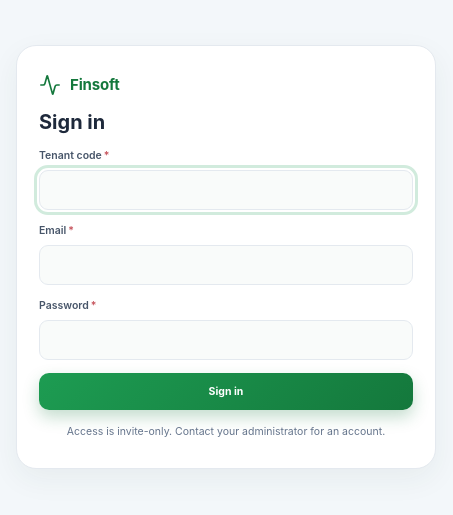
Test: LoginScreen › shows a generic invalid-credentials message on 401 — never which field
Type "ACME" into the field labelled "Tenant code *" at coordinates (226, 190), box [39,170,413,210]
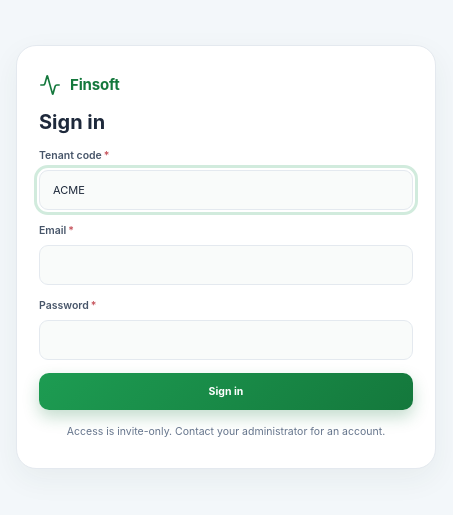
Type "a@b.com" into the field labelled "Email *" at coordinates (226, 265), box [39,245,413,285]
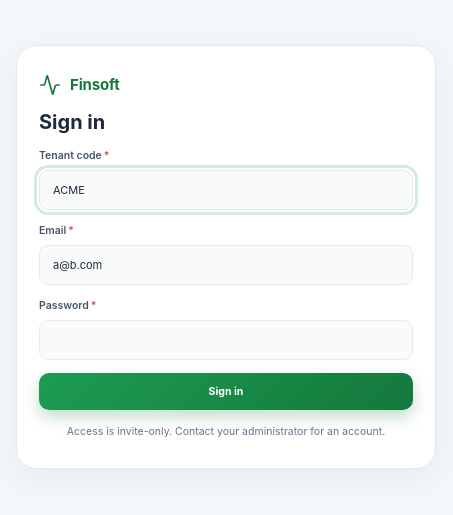
Type "wrong" into the password field labelled "Password *" at coordinates (226, 340), box [39,320,413,360]
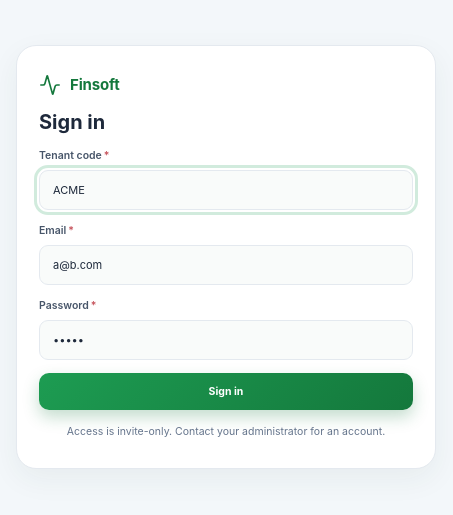
Click the button "Sign in" at coordinates (226, 392), box [39,374,413,410]
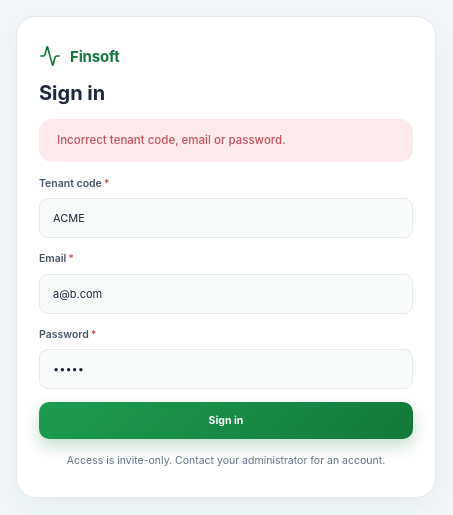
Expected: the button "Sign in" is enabled, [39,402,413,439]
Expected: the text "Incorrect tenant code, email or password." is shown, [57,134,286,148]
